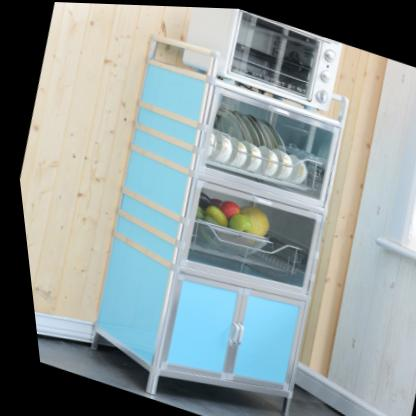Cupboard: (83, 34, 343, 416)
